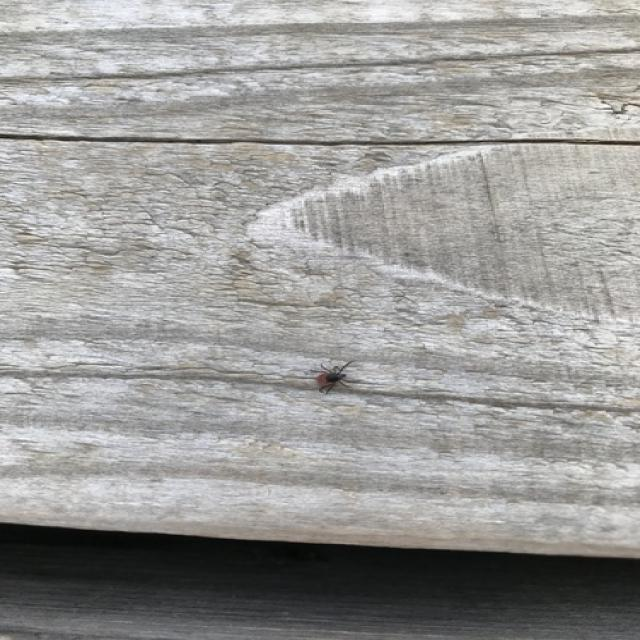Ixodes Ricinus-F: (311, 358, 355, 397)
